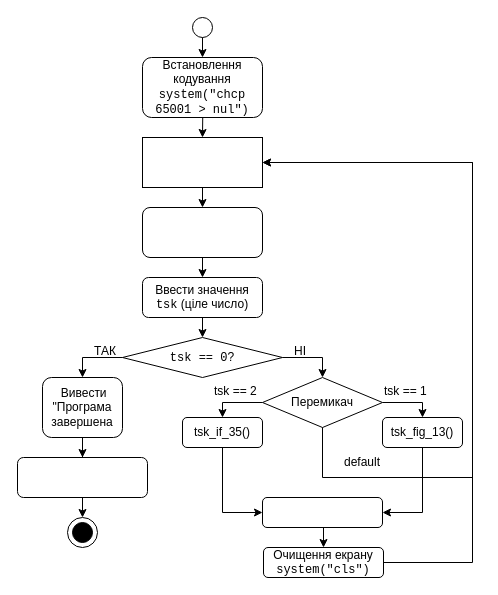
The diagram is 498 pixels wide and 595 high, and some of its shapes have lost their labels. The box of each missing label's shape, as (x1, y1, x2, y2) in pixels:
Вивести текст меню ("Введіть номер завдання..."): (142, 206, 262, 258)
Пауза екрану system("pause"): (262, 496, 382, 528)
Переривання циклу ( break ): (16, 456, 148, 498)
Початок безкінечного циклу while (true): (142, 136, 262, 188)
